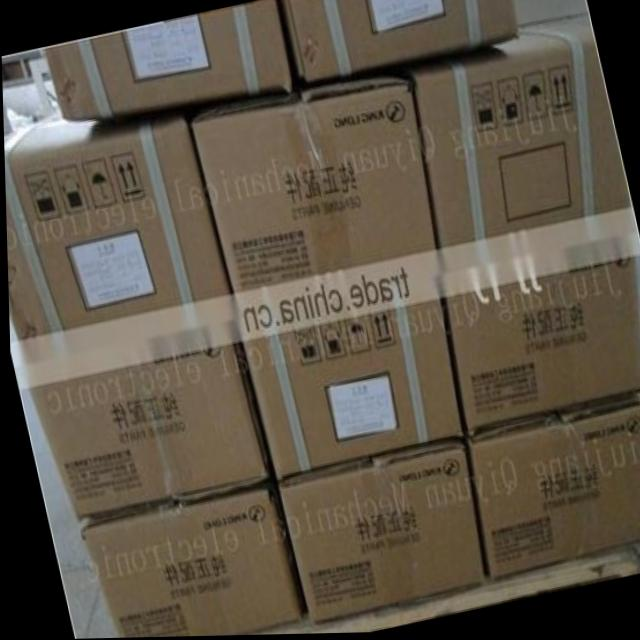box: (191, 70, 438, 315), (3, 104, 232, 365), (403, 21, 632, 277), (25, 324, 265, 520), (235, 283, 460, 480), (440, 240, 640, 435), (277, 442, 482, 627), (77, 482, 300, 638), (464, 398, 640, 584), (45, 0, 291, 120), (284, 0, 519, 83)
